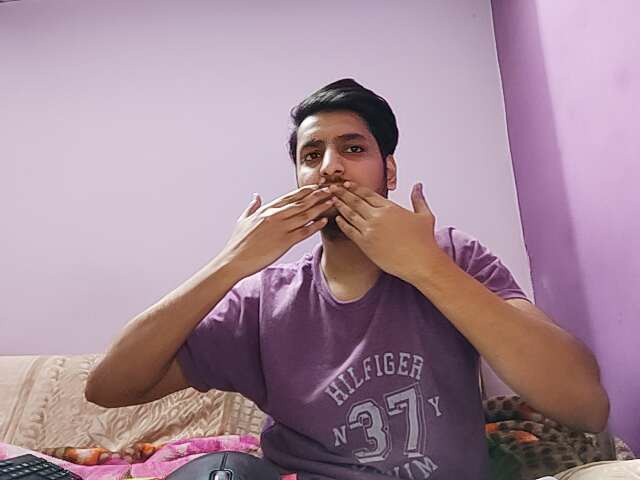ThankYou: (233, 181, 453, 269)
